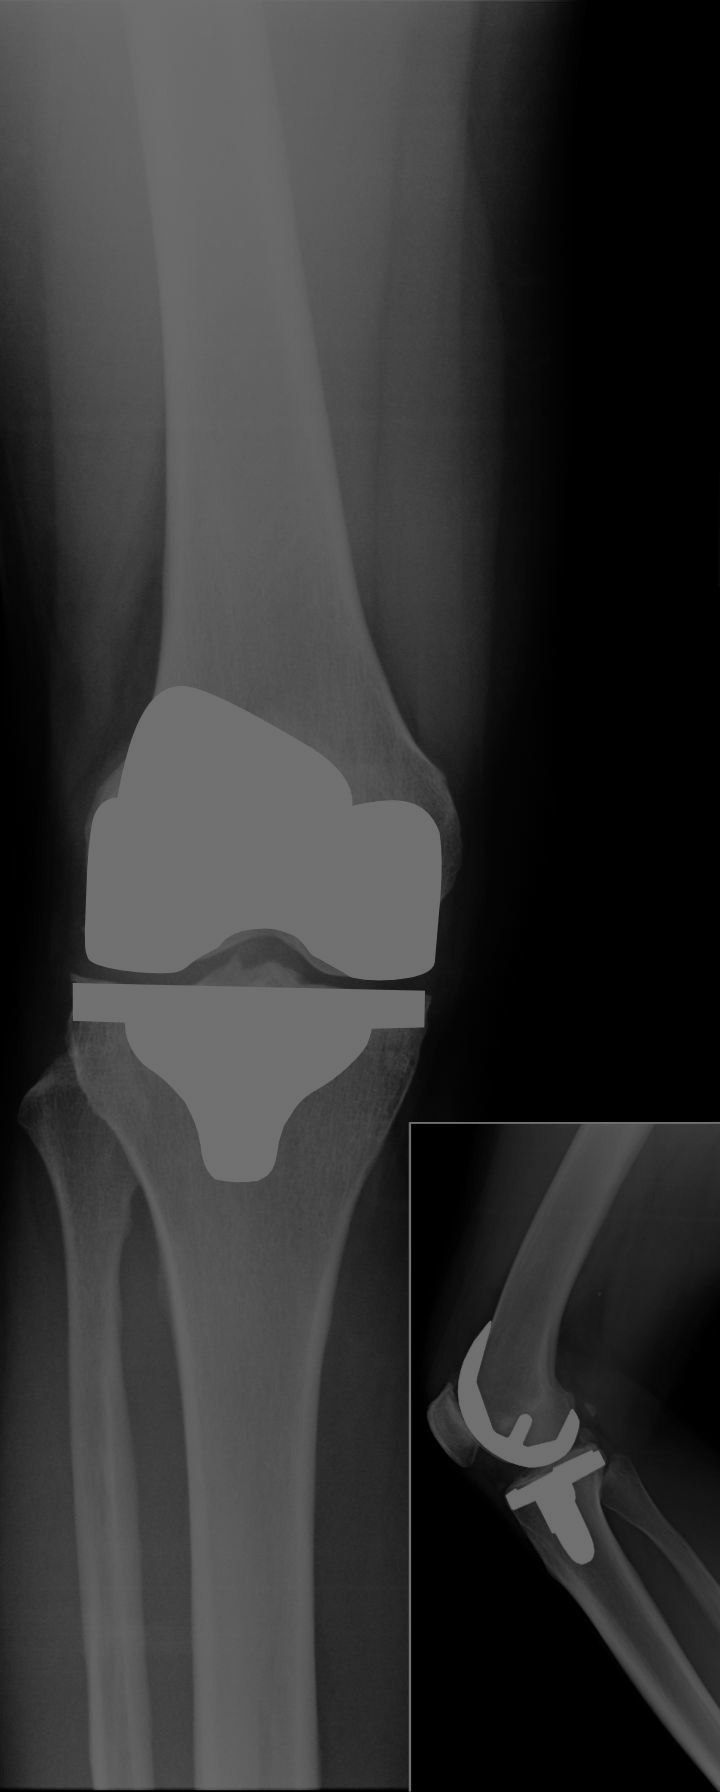Knee-Triathlon-Stryker: (70, 659, 446, 1179), (442, 1322, 611, 1575)
